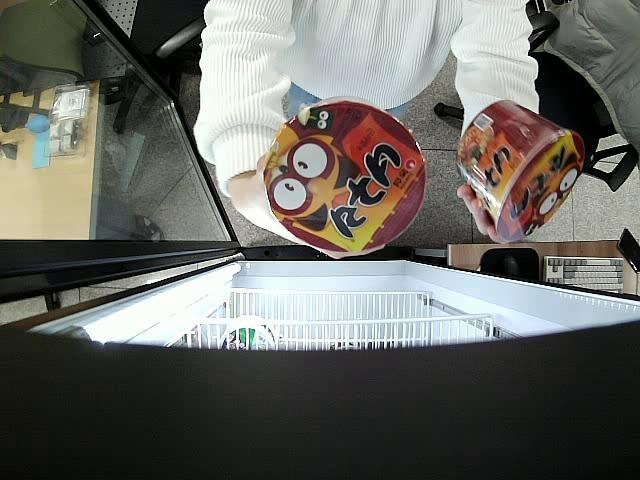05_nuguri_L: (262, 100, 427, 256), (456, 100, 584, 242)
